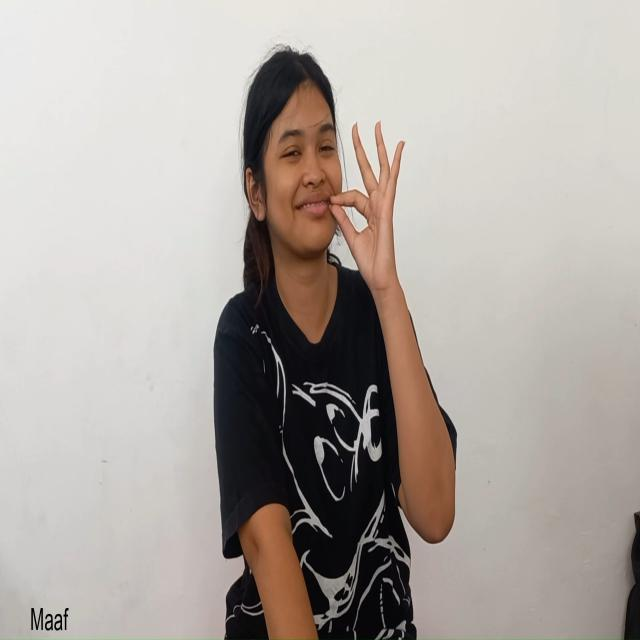Maaf -BISINDO-: (242, 46, 406, 290)
